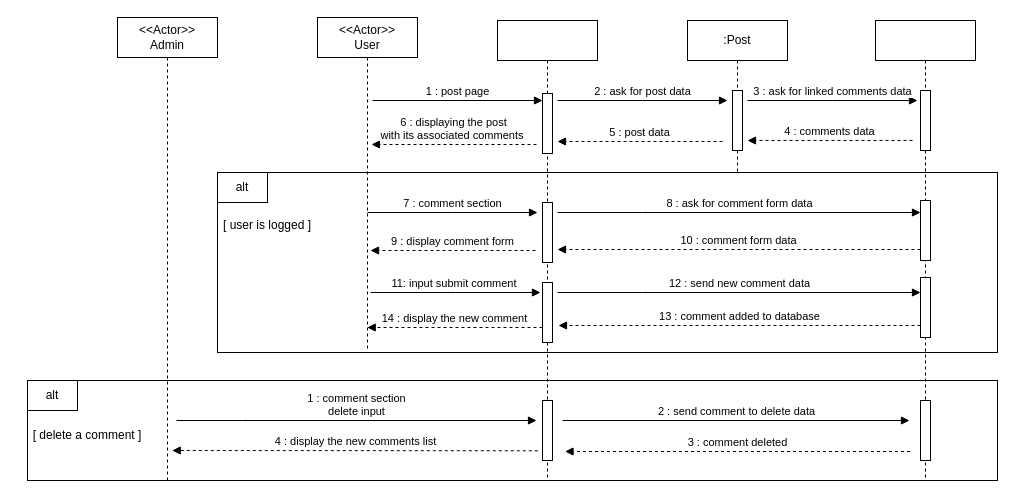
Image size: 1015x498. Some labels were removed from this diagram. The centre of each missing label's shape, as x and y in pixels:
":Comment" belongs at point 925,250.
":System" belongs at point 547,250.
